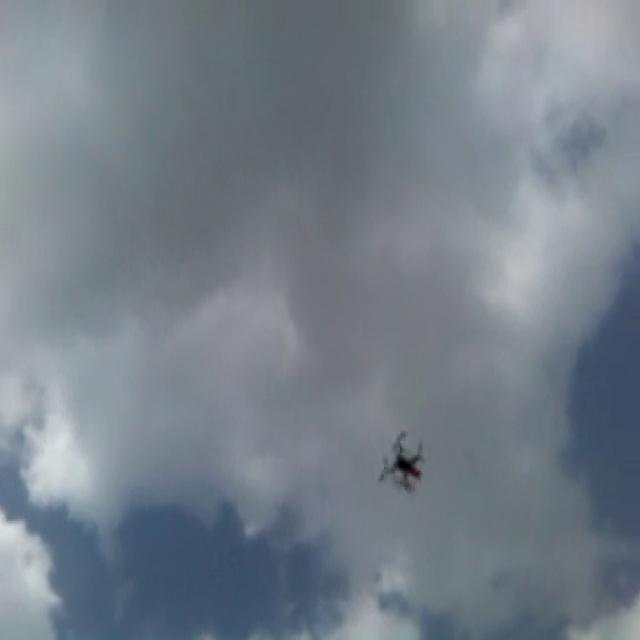drone: (376, 431, 426, 493)
